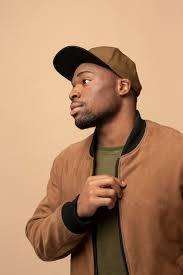cap: (48, 36, 148, 96)
